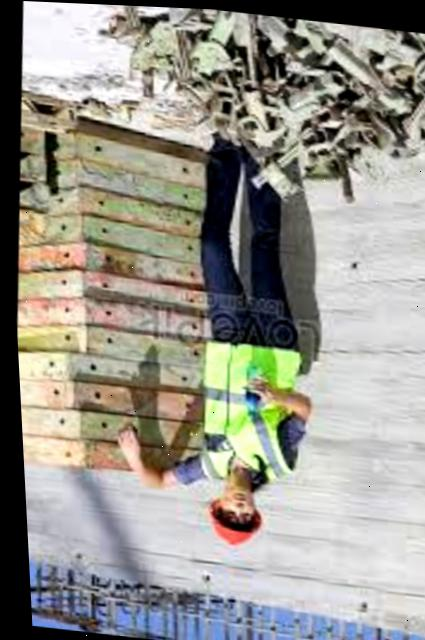helmet: (179, 491, 262, 550)
vest: (184, 324, 306, 489)
